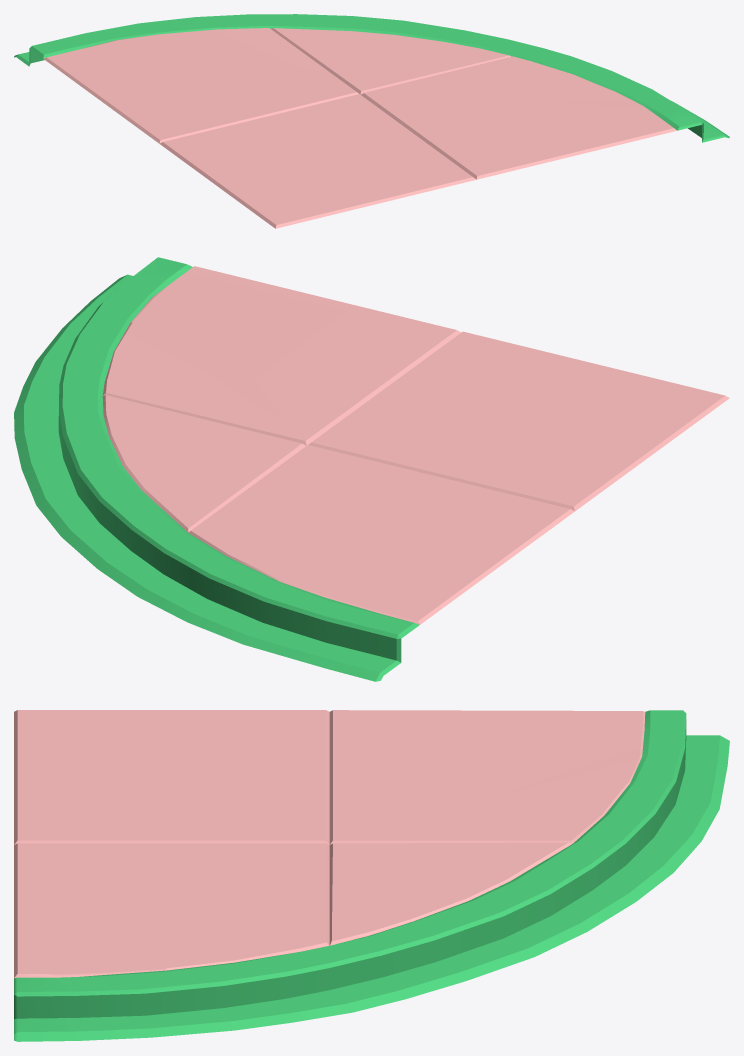
File: mesh_Paving_Outer90Double_v1.3.fbx
3 renders of one model, top to bottom at view 1: azimuth 30°, elevation 25°; view 2: azimuth 150°, elevation 25°; view 3: azimuth 270°, elevation 25°, orthographic. The views are drawn at different scales.
Parts seen in each view (by area): view 1: mesh_Paving_Outer90Double; view 2: mesh_Paving_Outer90Double; view 3: mesh_Paving_Outer90Double.
Boxes of the visible parts, x1,y1,x2,y2 form: mesh_Paving_Outer90Double: (14,14,729,228); mesh_Paving_Outer90Double: (14,257,729,681); mesh_Paving_Outer90Double: (14,710,729,1041).
Size of the model in its own units: 227 by 10.77 by 227.
